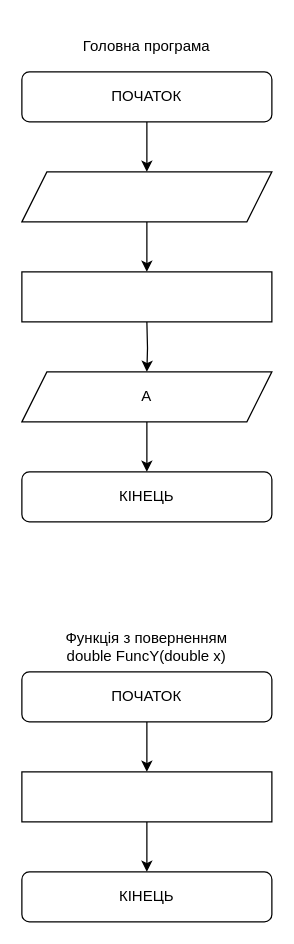
The diagram is 294 pixels wide and 944 high, and some of its shapes have lost their labels. The centre of each missing label's shape, as x and y in pixels:
"A = ( pow(FuncY(x), 2) + pow(FuncY(y), 2) ) / 2" belongs at (146,296).
"return ( pow(x, 5) * pow( cos(1.0 / x), 2) );" belongs at (146,796).
"x, y" belongs at (146,196).
